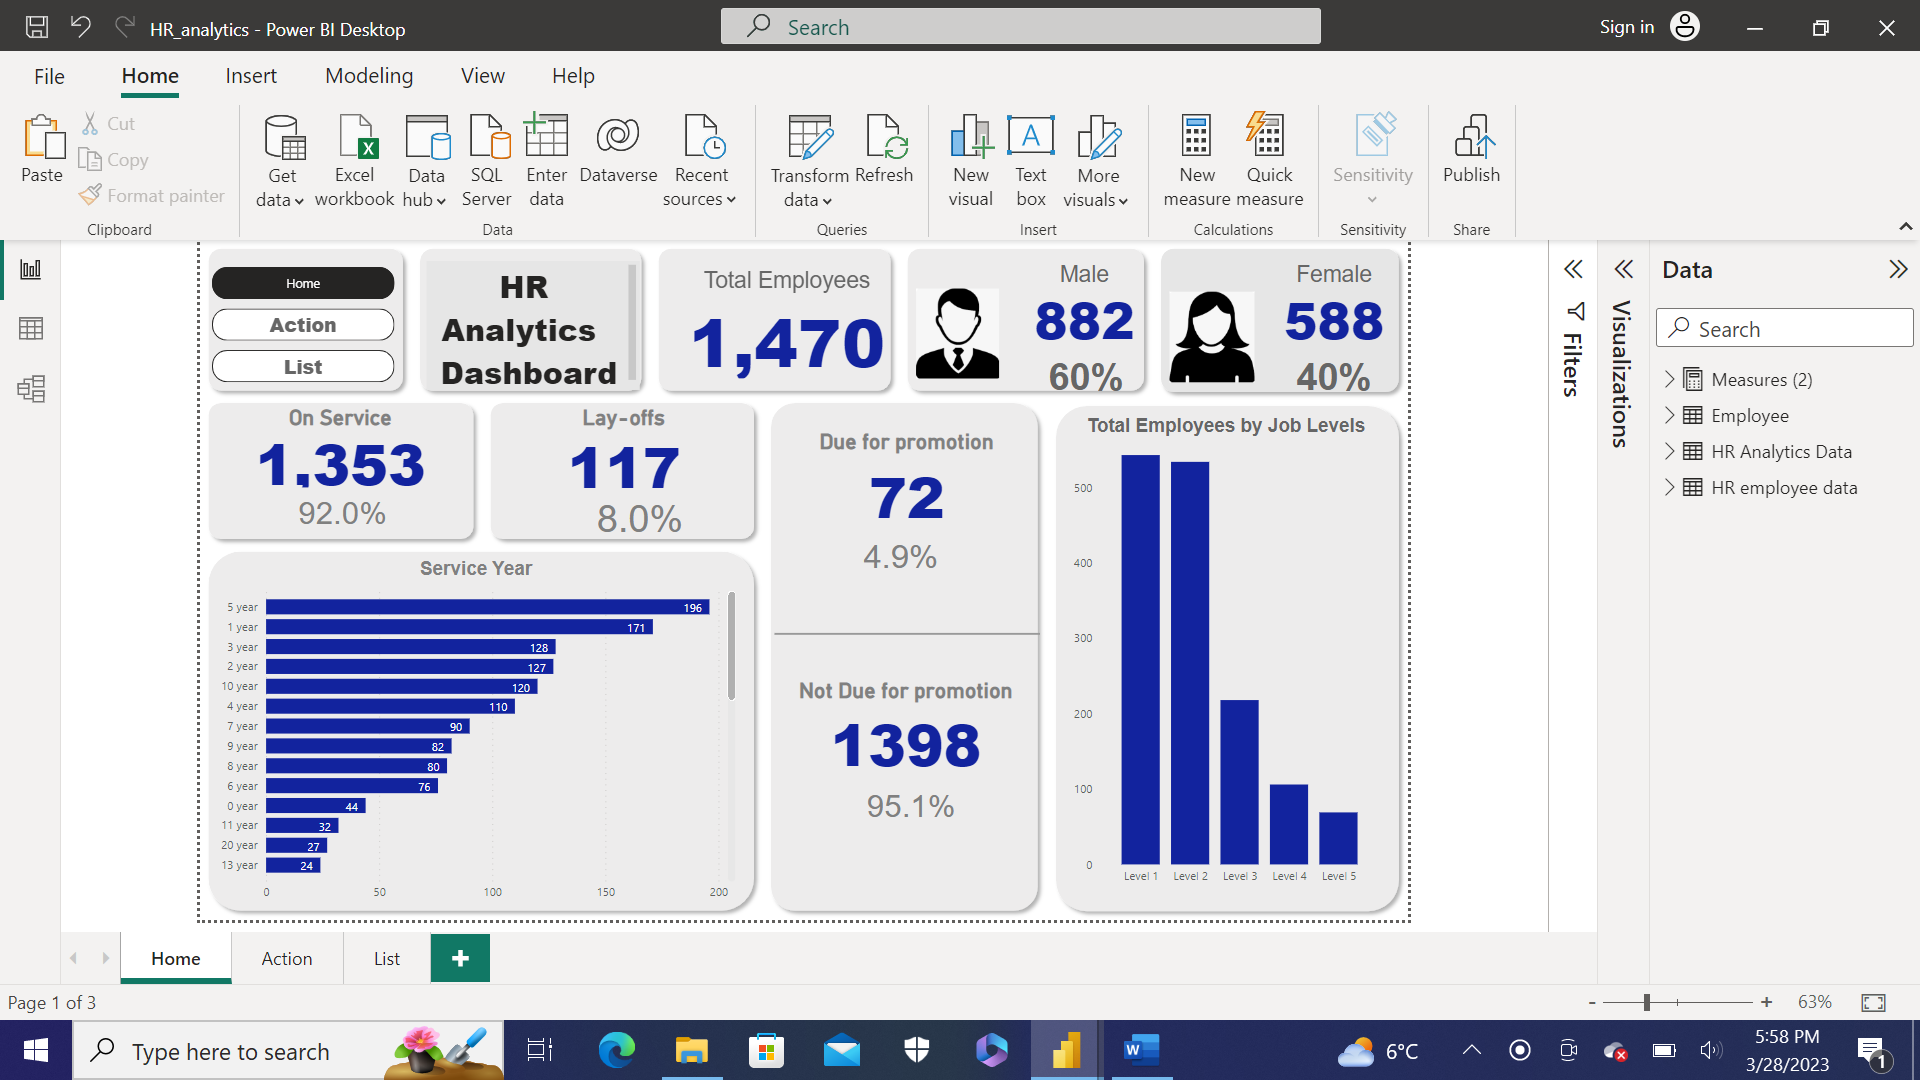

What the dashboard file says about the page in this screenshot:
{"tool":"powerbi","page":{"name":"Home","canvas":[1280,720],"ordinal":0},"visuals":[{"type":"shape","box":[0,0,224.1,168.5],"z":0},{"type":"shape","box":[224.1,0,252.7,168.5],"z":1000},{"type":"shape","box":[476.8,0,263.8,168.5],"z":2000},{"type":"shape","box":[740.7,0,268.6,168.5],"z":3000},{"type":"shape","box":[1009.3,0,270.2,170.1],"z":4000},{"type":"shape","box":[898,166.9,381.5,553.1],"z":6000},{"type":"shape","box":[0,163.7,298.8,162.1],"z":7000},{"type":"shape","box":[0,321.1,596,398.9],"z":8000},{"type":"shape","box":[298.8,163.7,297.2,162.1],"z":9000},{"type":"shape","box":[596,163.7,300.4,556.3],"z":10000},{"type":"textbox","box":[240,22.3,225.7,136.7],"z":11000},{"type":"card","title":"Total Employees","fields":{"Values":["Measures (2).Total Emp"]},"box":[504.6,28.3,236.2,122.8],"z":13000},{"type":"card","title":"Male","fields":{"Values":["Measures (2).Male"]},"box":[852.3,22.7,170.1,92.6],"z":14000},{"type":"card","title":"Female","fields":{"Values":["Measures (2).Female"]},"box":[1135.8,22.7,130.4,92.6],"z":15000},{"type":"card","title":"Male","fields":{"Values":["Measures (2).% male"]},"box":[882.5,115.3,113.4,52.9],"z":16000},{"type":"card","title":"Male","fields":{"Values":["Measures (2).% female"]},"box":[1135.8,115.3,130.4,52.9],"z":17000},{"type":"image","box":[754,45.4,98.3,105.8],"z":18000},{"type":"image","box":[1022.4,45.4,100.2,113.4],"z":19000},{"type":"card","title":"Not Due for promotion","fields":{"Values":["Measures (2).Not due"]},"box":[607.2,464.1,281.3,108.1],"z":20000},{"type":"card","fields":{"Values":["Measures (2).% Not due"]},"box":[686.6,572.2,133.5,52.5],"z":21000},{"type":"card","title":"Due for promotion","fields":{"Values":["Measures (2).Due for promotion"]},"box":[621.5,200.3,254.3,109.7],"z":22000},{"type":"card","fields":{"Values":["Measures (2).% Due for promotion"]},"box":[677.1,309.9,130.3,47.7],"z":23000},{"type":"shape","box":[608.7,391,281.3,52.5],"z":24000},{"type":"barChart","title":"Service Year","fields":{"Category":["HR Analytics Data.Service Year"],"Y":["Measures (2).Total Emp"]},"box":[12.7,337,559.5,371.9],"z":25000},{"type":"columnChart","title":"Total Employees by Job Levels","fields":{"Category":["HR Analytics Data.Job Levels"],"Y":["Measures (2).Total Emp"]},"box":[920.3,186,333.8,505.4],"z":26000},{"type":"card","title":"On Service","fields":{"Values":["Measures (2).On service"]},"box":[23.8,174.8,249.5,92.2],"z":27000},{"type":"card","fields":{"Values":["Measures (2).% On Service"]},"box":[77.9,267,146.2,42.9],"z":28000},{"type":"card","title":"Lay-offs","fields":{"Values":["Measures (2).Retreanchment"]},"box":[330.6,174.8,236.8,97],"z":29000},{"type":"card","fields":{"Values":["Measures (2).% Retreanched"]},"box":[392.6,271.8,146.2,42.9],"z":30000},{"type":"pageNavigator","box":[12.7,28.6,193.9,122.4],"z":32000}]}

Visuals, with their boxes on the page's 1280x720 design canvas (x1, y1, x2, y2). These are canvas units, not pixel positions in the 1920x1080 screenshot, which may show the page scaled, cropped or inside an application window:
shape: select_region(0, 0, 224, 168)
shape: select_region(224, 0, 477, 168)
shape: select_region(477, 0, 741, 168)
shape: select_region(741, 0, 1009, 168)
shape: select_region(1009, 0, 1280, 170)
shape: select_region(898, 167, 1280, 720)
shape: select_region(0, 164, 299, 326)
shape: select_region(0, 321, 596, 720)
shape: select_region(299, 164, 596, 326)
shape: select_region(596, 164, 896, 720)
textbox: select_region(240, 22, 466, 159)
"Total Employees" card: select_region(505, 28, 741, 151)
"Male" card: select_region(852, 23, 1022, 115)
"Female" card: select_region(1136, 23, 1266, 115)
"Male" card: select_region(882, 115, 996, 168)
"Male" card: select_region(1136, 115, 1266, 168)
image: select_region(754, 45, 852, 151)
image: select_region(1022, 45, 1123, 159)
"Not Due for promotion" card: select_region(607, 464, 888, 572)
card - Measures (2).% Not due: select_region(687, 572, 820, 625)
"Due for promotion" card: select_region(622, 200, 876, 310)
card - Measures (2).% Due for promotion: select_region(677, 310, 807, 358)
shape: select_region(609, 391, 890, 444)
"Service Year" barChart: select_region(13, 337, 572, 709)
"Total Employees by Job Levels" columnChart: select_region(920, 186, 1254, 691)
"On Service" card: select_region(24, 175, 273, 267)
card - Measures (2).% On Service: select_region(78, 267, 224, 310)
"Lay-offs" card: select_region(331, 175, 567, 272)
card - Measures (2).% Retreanched: select_region(393, 272, 539, 315)
pageNavigator: select_region(13, 29, 207, 151)
